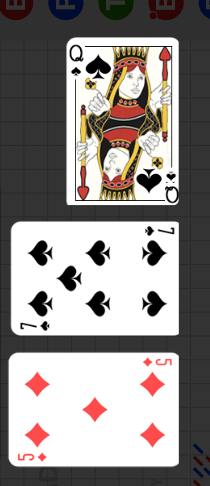7S: (143, 225, 176, 238)
9D: (141, 356, 174, 368)
9S: (67, 42, 84, 79)
